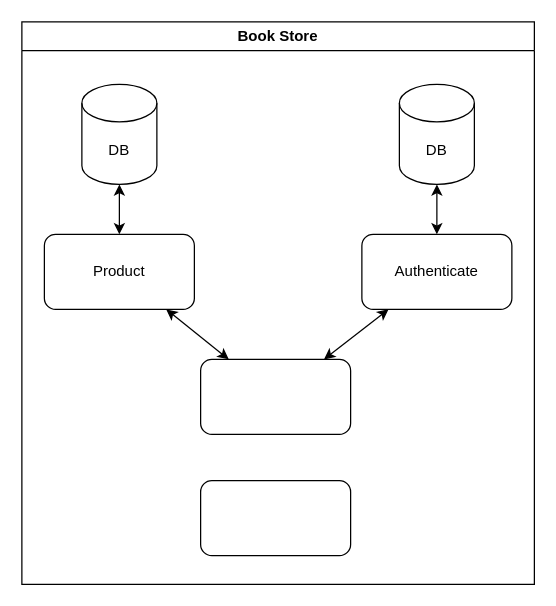
Some shapes in this 556 by 606 pixel diagram are drawn without their labels. Here are the shapes that lost their labels. From the top down, the box of each, then its label:
(199, 358, 351, 434): RabbitMQ
(199, 479, 351, 556): UI
